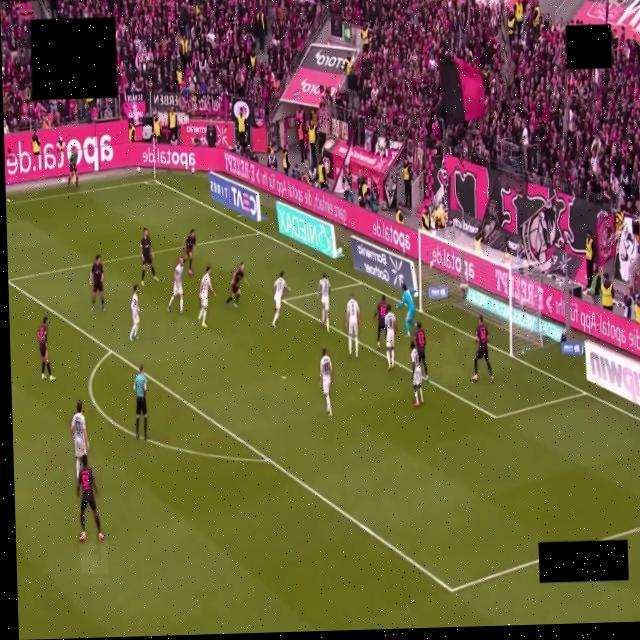player: (76, 455, 103, 541), (472, 315, 493, 382), (71, 401, 88, 477), (37, 317, 54, 381), (225, 263, 249, 307), (198, 266, 215, 327), (139, 229, 157, 285), (396, 284, 415, 337), (272, 272, 289, 327), (167, 259, 183, 314), (409, 341, 422, 405), (346, 294, 359, 358), (319, 348, 331, 416), (384, 305, 396, 371), (89, 254, 103, 310), (414, 323, 428, 379), (318, 273, 330, 332), (374, 295, 386, 349), (129, 284, 139, 341), (183, 230, 195, 275)
referee: (133, 366, 147, 440)
